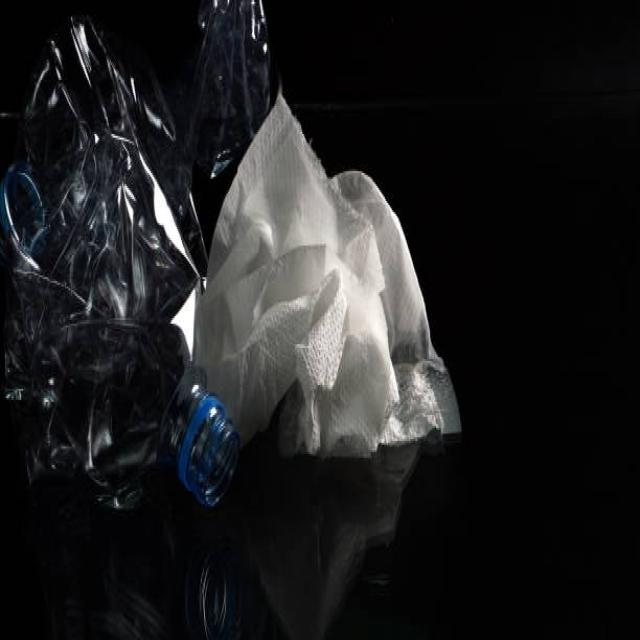paper: (236, 121, 484, 484)
plastic: (7, 41, 226, 495)
